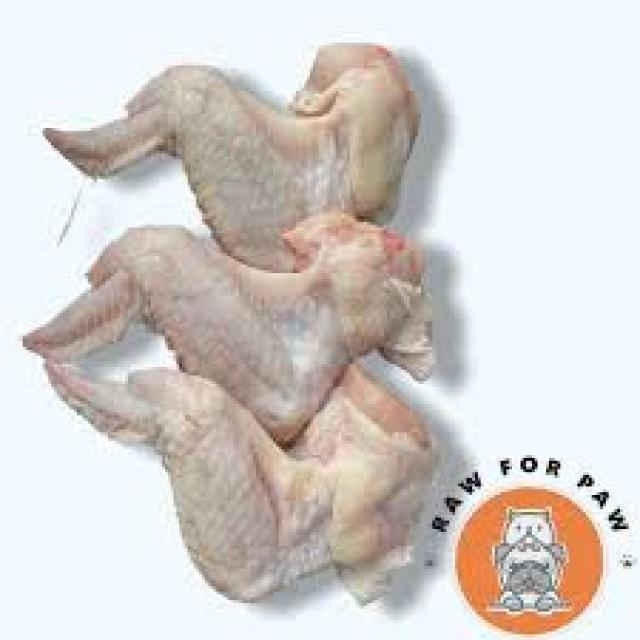wing: (39, 350, 423, 606), (17, 32, 417, 254), (28, 214, 446, 423)
